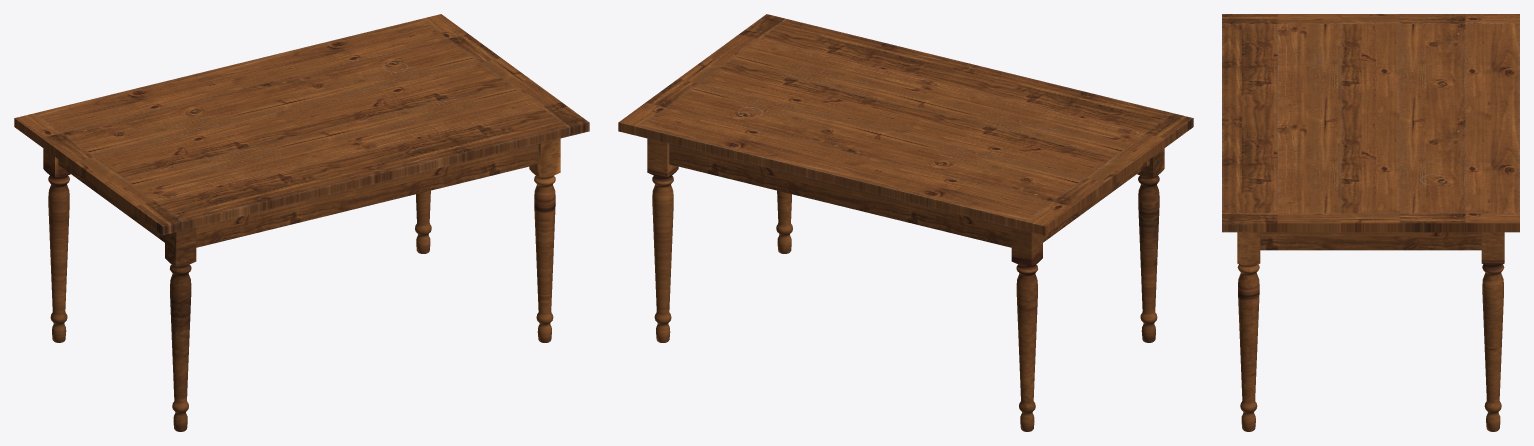
Rendered from same_seed_kitchen_table.glb.
3 renders of one model, left to right at view 1: azimuth 30°, elevation 25°; view 2: azimuth 150°, elevation 25°; view 3: azimuth 270°, elevation 25°, orthographic.
Parts seen in each view (by area): view 1: table_top_low, table_apron_long_0_low, table_leg_00_low, table_leg_10_low, table_leg_01_low, table_leg_11_low, table_apron_short_0_low; view 2: table_top_low, table_apron_long_1_low, table_leg_01_low, table_leg_11_low, table_leg_00_low, table_leg_10_low, table_apron_short_0_low; view 3: table_top_low, table_apron_short_1_low, table_leg_10_low, table_leg_11_low.
Part boxes in pixels (bbox=[...]): table_top_low: bbox=[14, 14, 589, 235]; table_apron_long_0_low: bbox=[196, 144, 538, 247]; table_leg_00_low: bbox=[165, 227, 196, 431]; table_leg_10_low: bbox=[529, 138, 560, 342]; table_leg_01_low: bbox=[43, 148, 70, 342]; table_leg_11_low: bbox=[415, 190, 431, 253]; table_apron_short_0_low: bbox=[58, 159, 164, 242]; table_top_low: bbox=[618, 14, 1193, 235]; table_apron_long_1_low: bbox=[669, 144, 1011, 247]; table_leg_01_low: bbox=[1011, 227, 1042, 431]; table_leg_11_low: bbox=[647, 138, 678, 342]; table_leg_00_low: bbox=[1137, 148, 1164, 342]; table_leg_10_low: bbox=[776, 190, 792, 253]; table_apron_short_0_low: bbox=[1043, 159, 1149, 242]; table_top_low: bbox=[1222, 14, 1519, 232]; table_apron_short_1_low: bbox=[1260, 232, 1481, 250]; table_leg_10_low: bbox=[1237, 232, 1260, 431]; table_leg_11_low: bbox=[1481, 232, 1504, 431].
Bounding box in the file's own units: 1.5 × 0.74 × 0.902.
9 materials, 9 textured.
